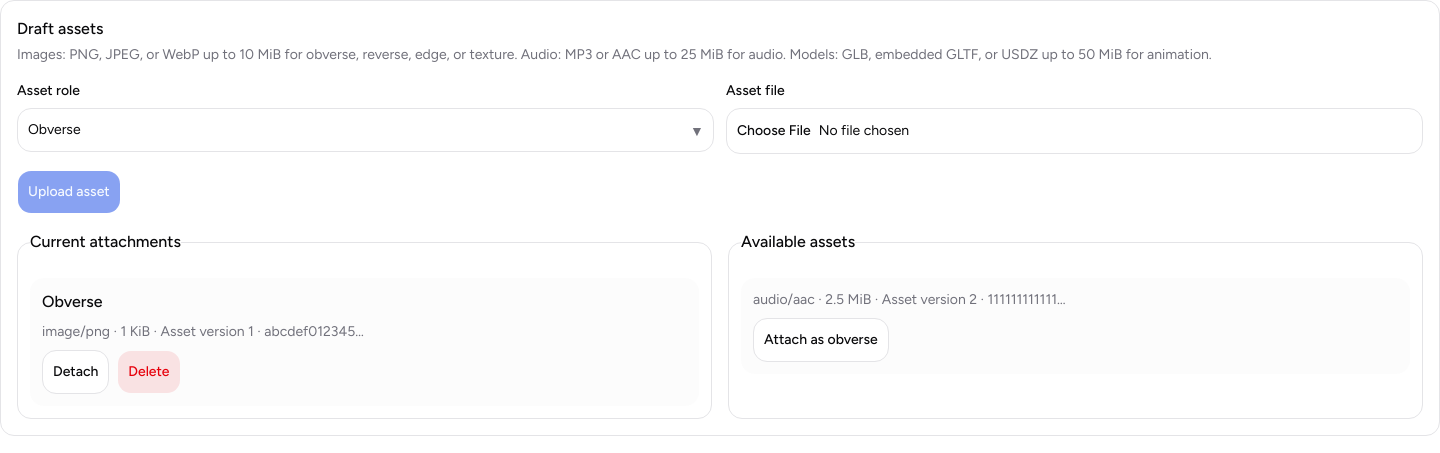
Test: AssetAttachmentsEditor › provides labelled native controls and exact role, format, and size policy guidance
The width and height of the screenshot is (1440, 453).
Expected: the text "Images: PNG, JPEG, or WebP up to 10 MiB" shows "Images: PNG, JPEG, or WebP up to 10 MiB for obverse, reverse, edge, or texture. Audio: MP3 or AAC up to 25 MiB for audio. Models: GLB, embedded GLTF, or USDZ up", [17, 46, 1212, 63]
Click the dropdown named "Asset role" at [54, 130], box [17, 108, 714, 152]
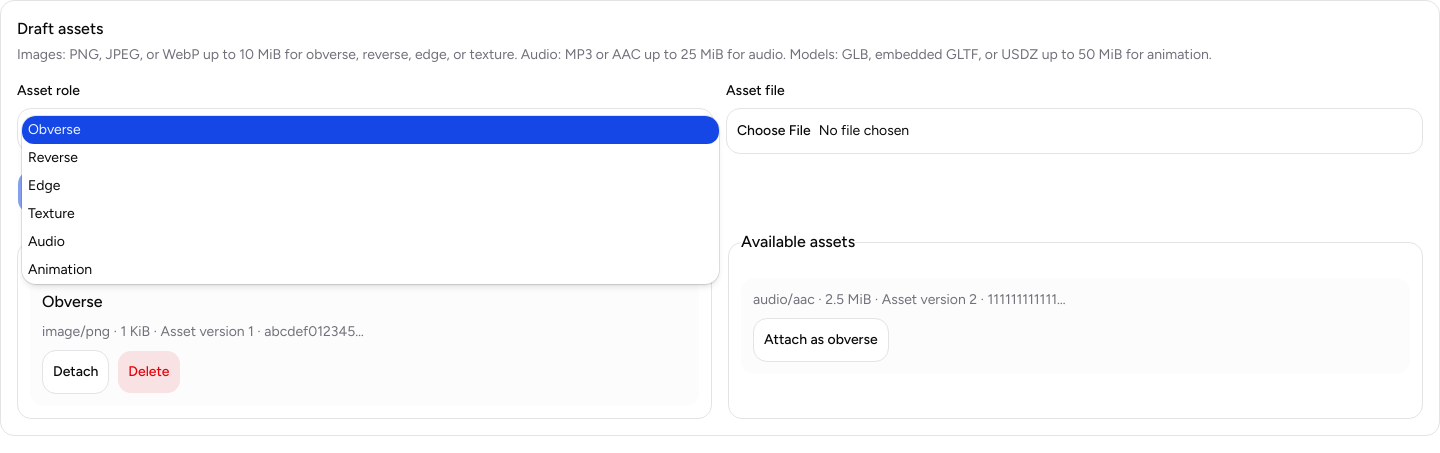
Expected: the options read "Obverse", "Reverse", "Edge", "Texture", "Audio", "Animation", in this order, [22, 116, 719, 144]; [28, 149, 78, 166]; [28, 177, 60, 194]; [28, 205, 75, 222]; [28, 233, 65, 250]; [28, 261, 92, 278]
